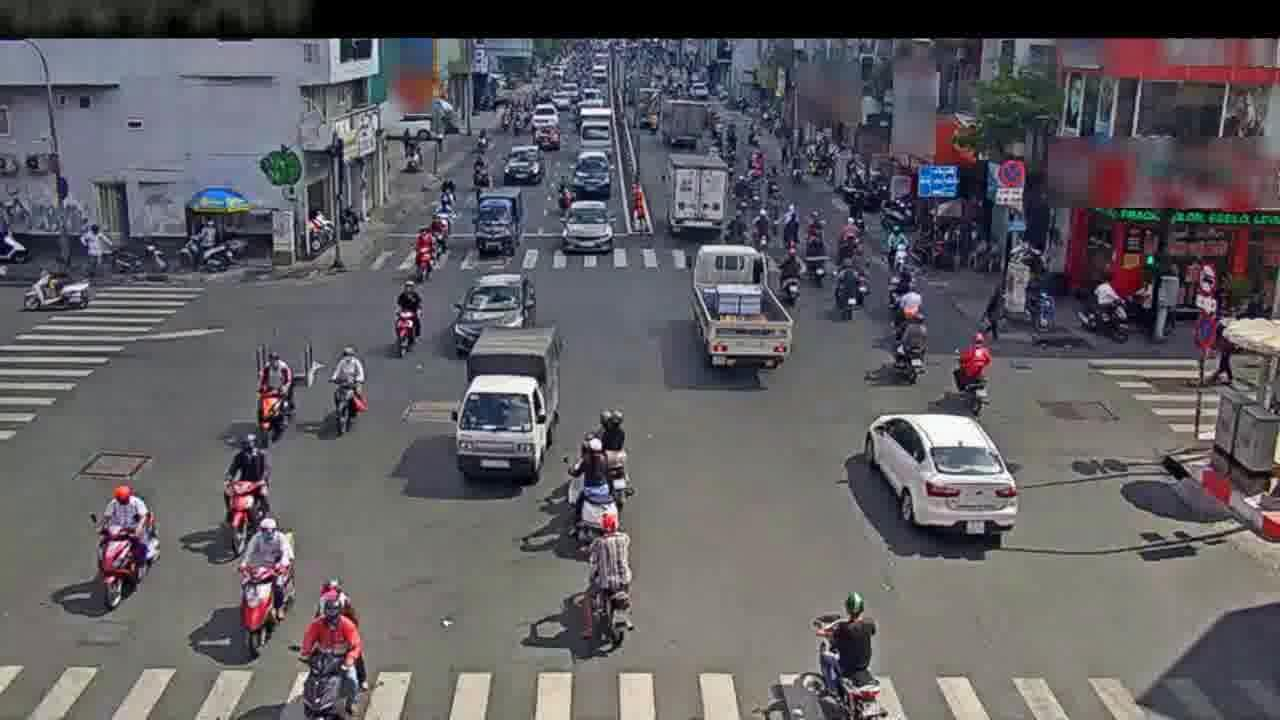8: (449, 320, 558, 490), (685, 236, 800, 371), (659, 156, 727, 237)
container: (865, 405, 1013, 537), (449, 279, 537, 353), (562, 195, 611, 268), (472, 196, 519, 257), (503, 145, 543, 187), (574, 151, 610, 197)
motorbike: (232, 513, 294, 655), (298, 591, 367, 718), (808, 597, 880, 714), (91, 478, 154, 609), (577, 513, 632, 655), (562, 436, 629, 552), (220, 437, 266, 551), (17, 252, 93, 318), (255, 343, 293, 448), (327, 344, 366, 444), (952, 333, 991, 416), (833, 258, 870, 326), (392, 285, 419, 365), (771, 245, 804, 310), (893, 319, 925, 378), (802, 231, 829, 294), (413, 223, 436, 288), (433, 196, 454, 251), (895, 279, 926, 314), (888, 225, 908, 272), (471, 151, 491, 194)
